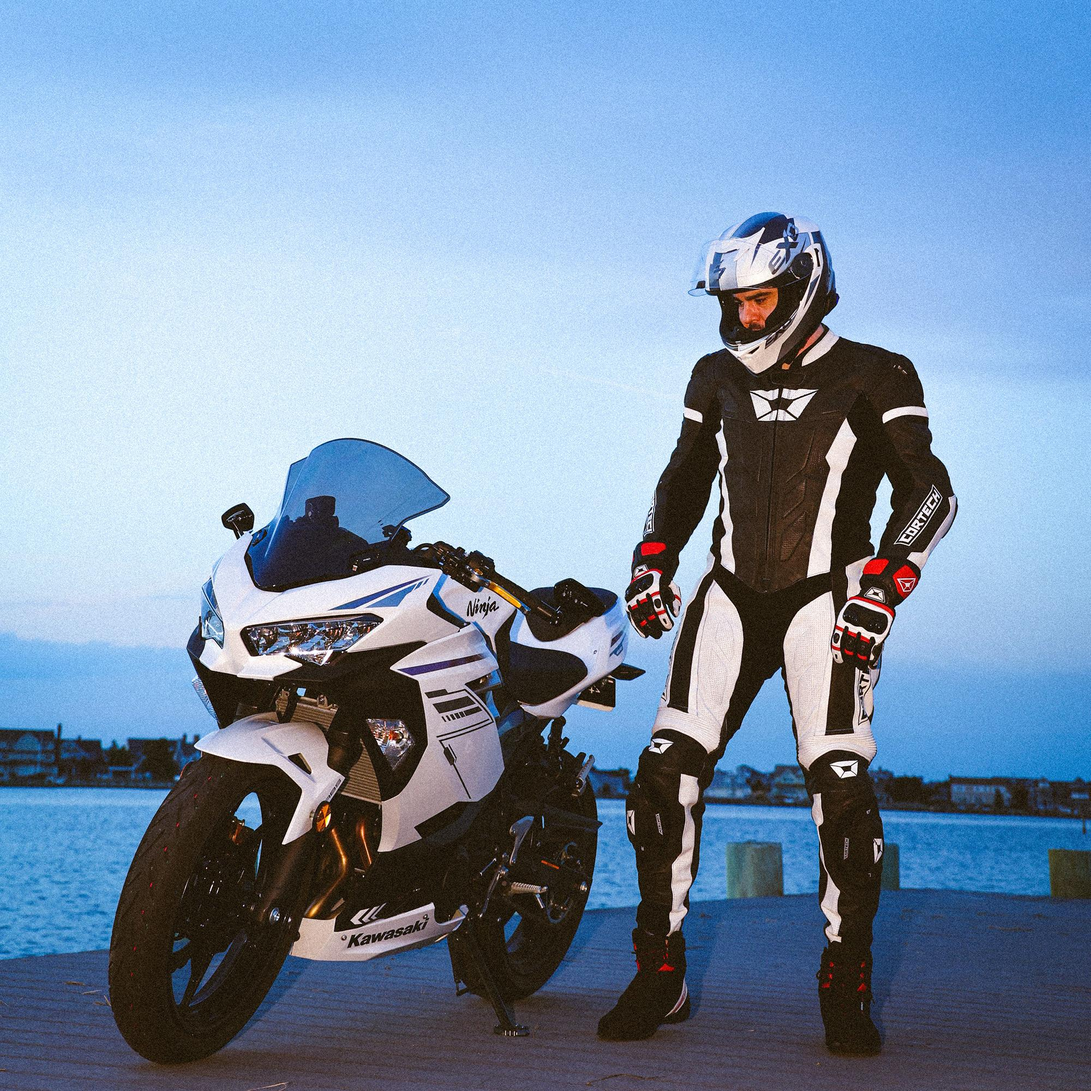helmet: (687, 210, 840, 379)
